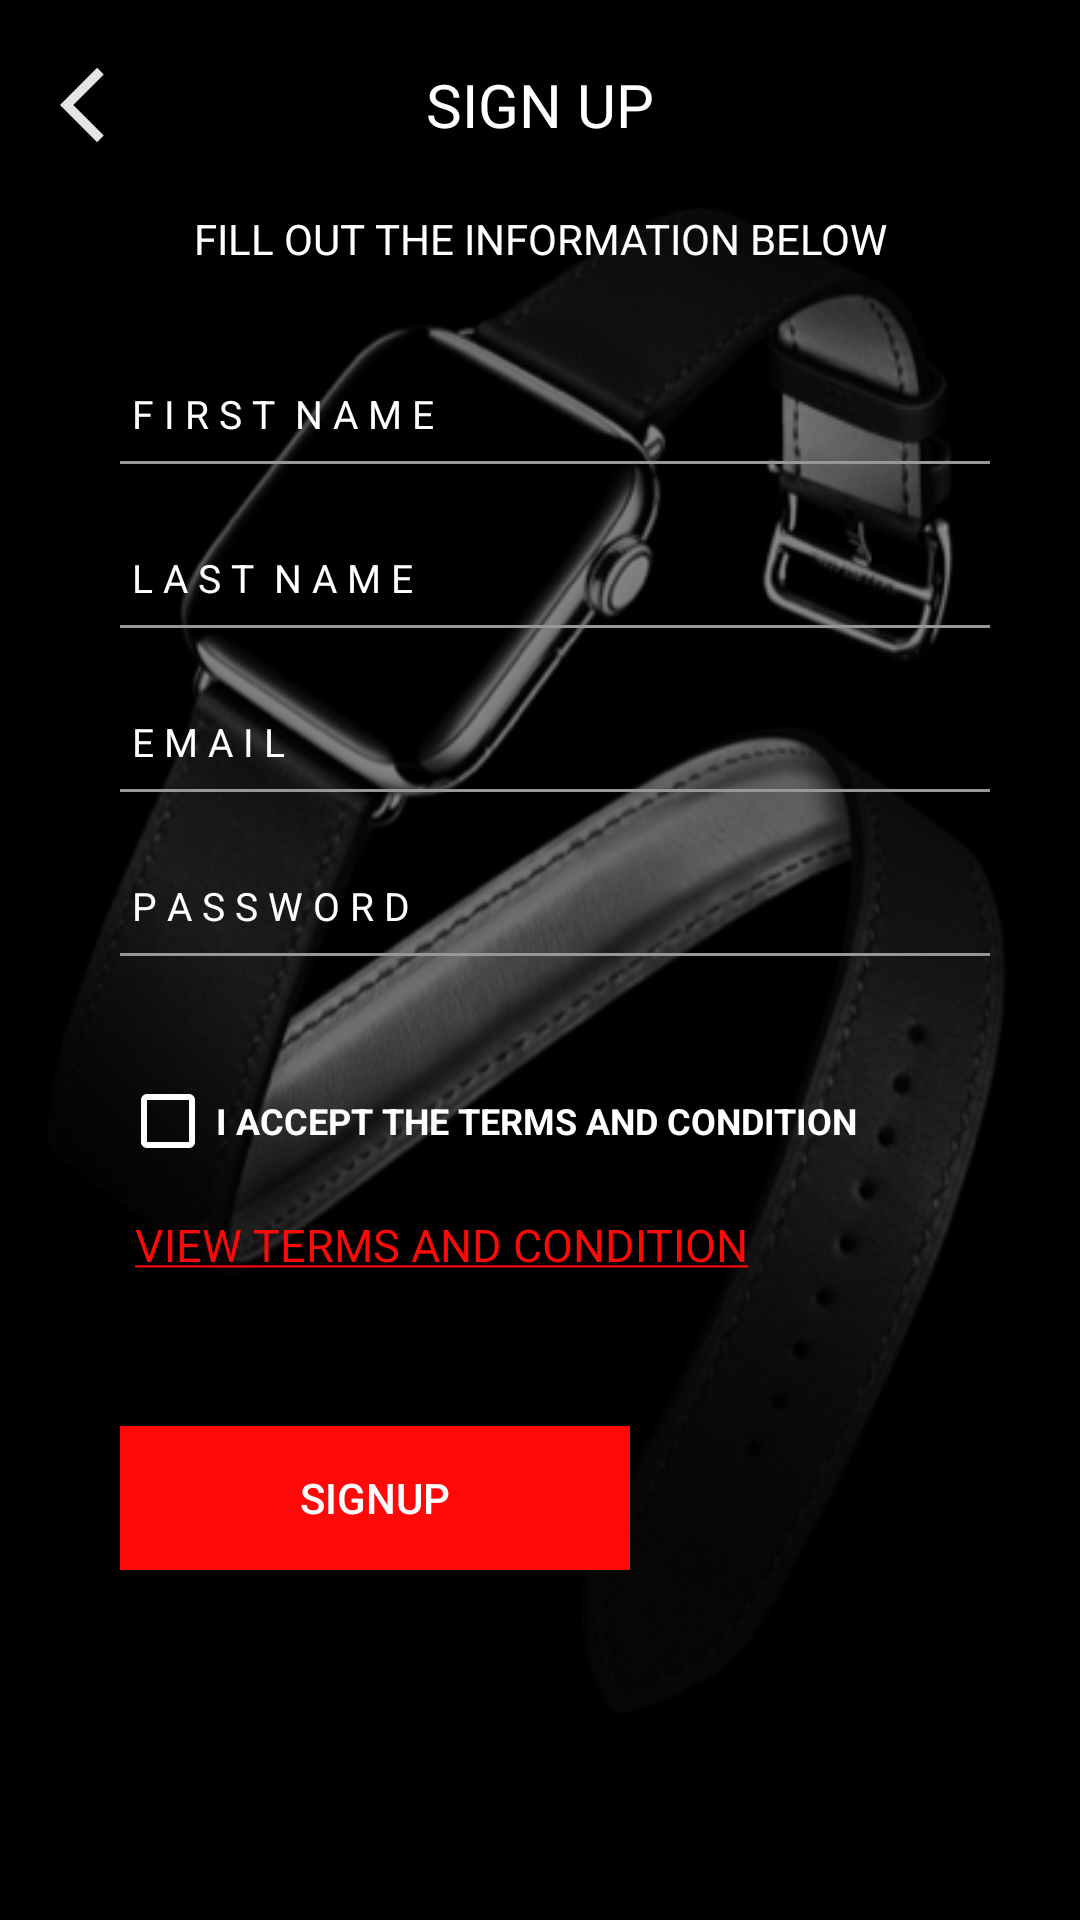

Icons on this 1080×1920 Android screen, each with the point to tap as point (x, y):
arrow back: point (82, 105)
